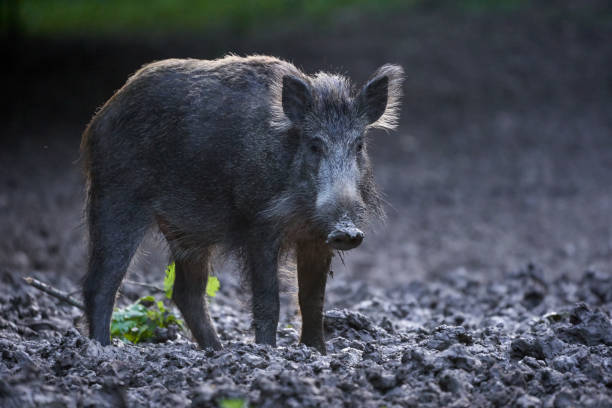pig: (55, 52, 404, 344)
